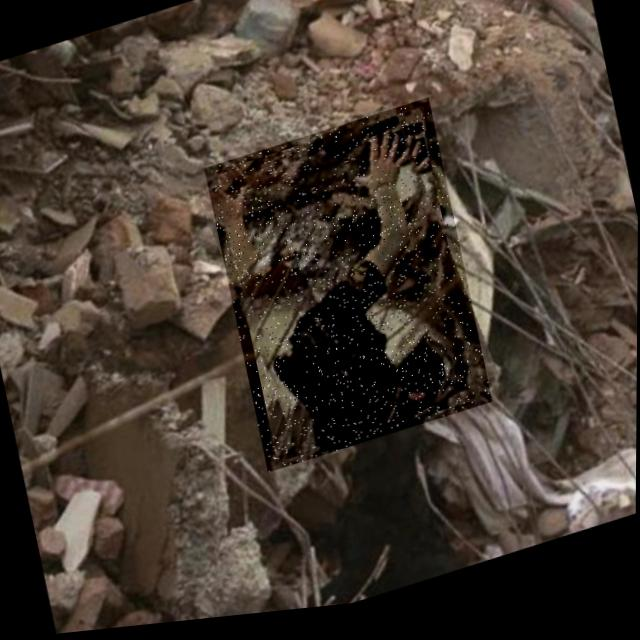Person in Rubble: (203, 101, 495, 483)
